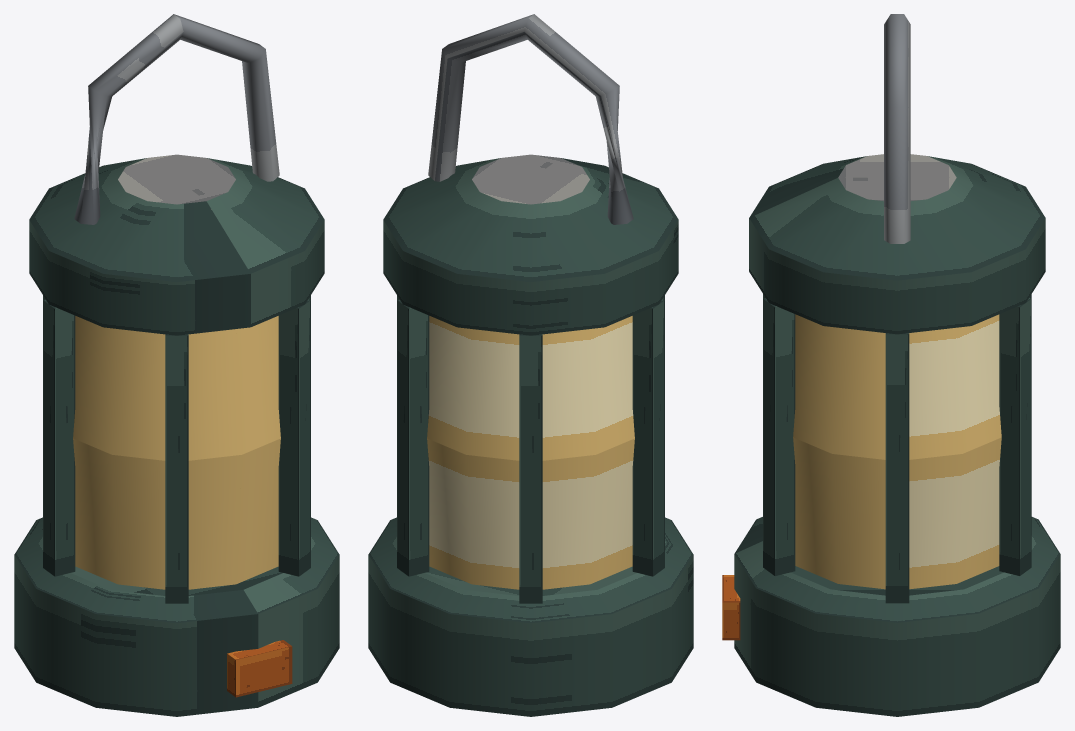
The model's file is INV_EmergencyLantern.glb.
The picture shows the model from 3 angles, left to right: view 1: azimuth 30°, elevation 25°; view 2: azimuth 150°, elevation 25°; view 3: azimuth 270°, elevation 25°; orthographic projection.
Visible parts, largest first — view 1: INV_EmergencyLantern_Mesh; view 2: INV_EmergencyLantern_Mesh; view 3: INV_EmergencyLantern_Mesh.
Part boxes in pixels (box(x1,y1,x2,y2)): INV_EmergencyLantern_Mesh: box(14, 14, 339, 716); INV_EmergencyLantern_Mesh: box(368, 14, 693, 716); INV_EmergencyLantern_Mesh: box(722, 14, 1060, 716).
Size of what is drawn, in the model's own units: 0.11 by 0.2359 by 0.114.
Materials: 1 (1 with a texture image).
